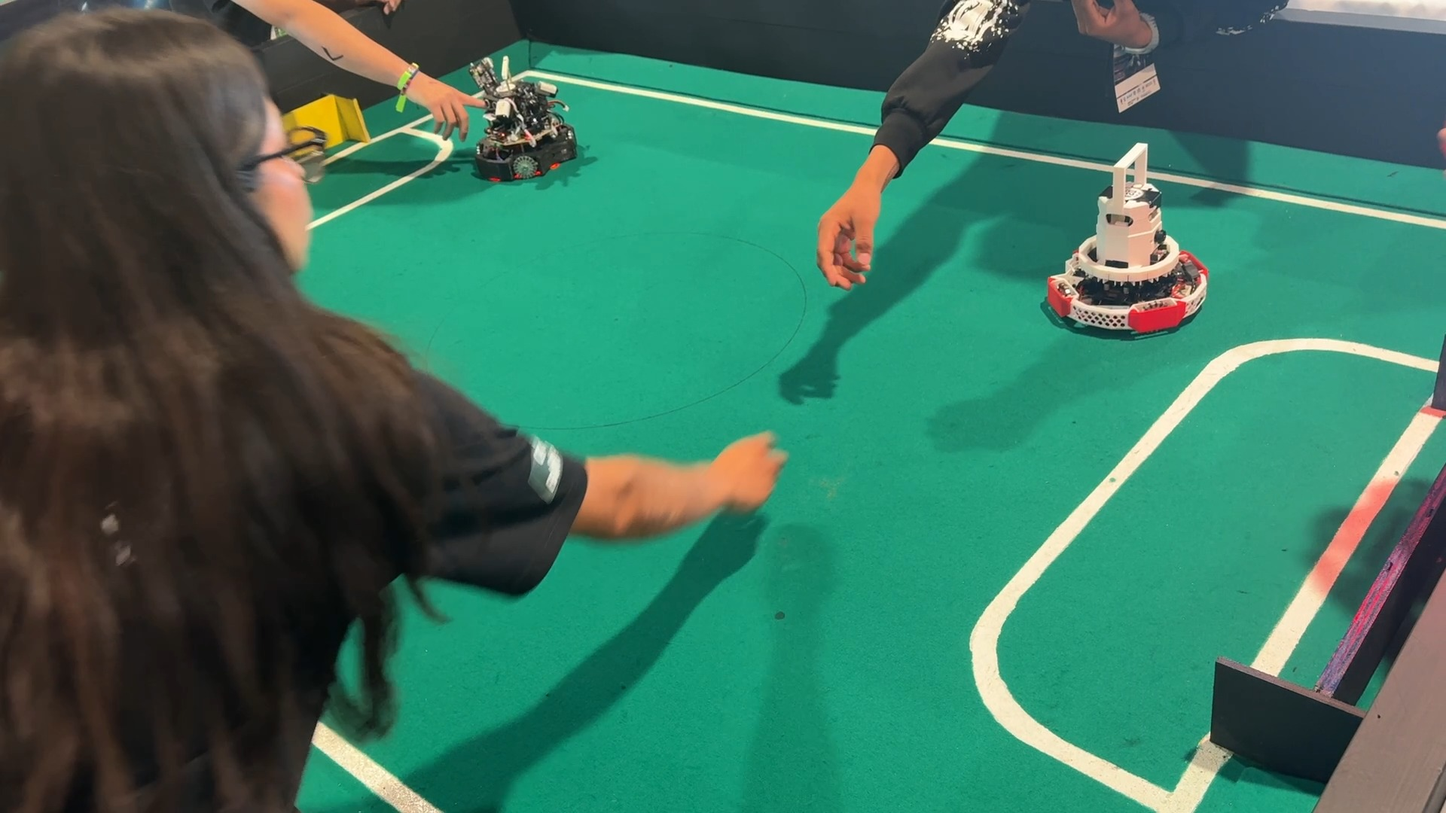Robot: (1033, 136, 1219, 355), (441, 31, 597, 199)
